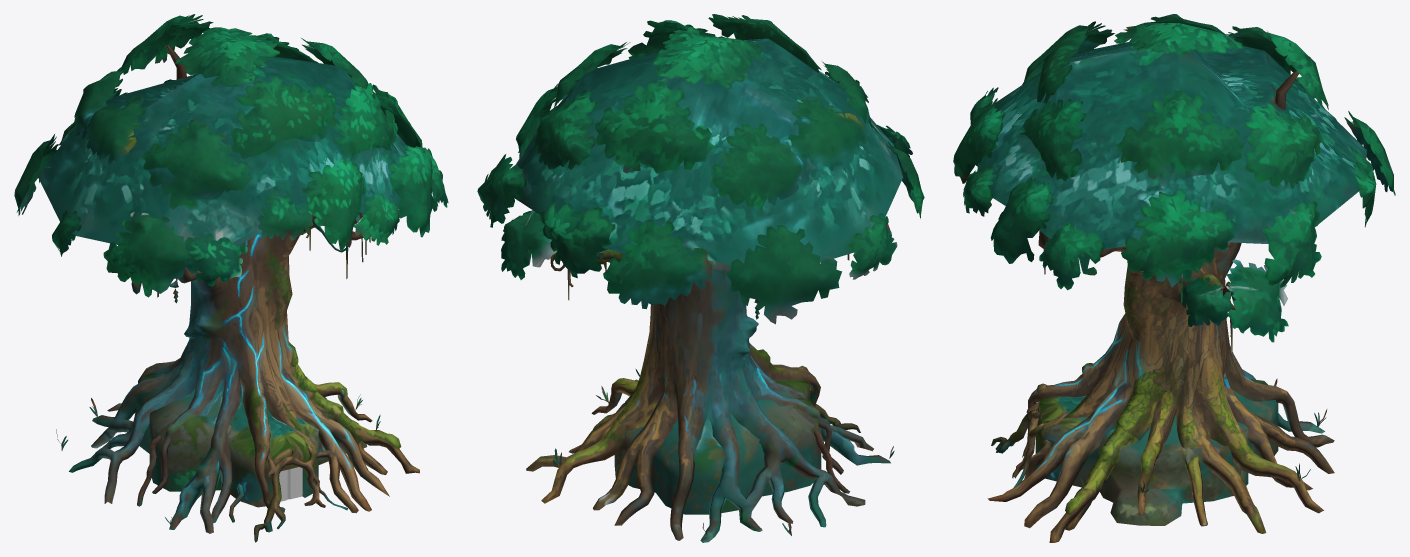
Rendered from Tree_Golem.fbx.
3 renders of one model, left to right at view 1: azimuth 30°, elevation 25°; view 2: azimuth 150°, elevation 25°; view 3: azimuth 270°, elevation 25°, orthographic. The views are drawn at different scales.
Parts seen in each view (by area): view 1: fb300689_a8bb_4872_b2f7_7d57f4a33fc9; view 2: fb300689_a8bb_4872_b2f7_7d57f4a33fc9; view 3: fb300689_a8bb_4872_b2f7_7d57f4a33fc9.
Part boxes in pixels (box(x1,y1,x2,y2)): fb300689_a8bb_4872_b2f7_7d57f4a33fc9: box(14, 14, 448, 542); fb300689_a8bb_4872_b2f7_7d57f4a33fc9: box(477, 14, 924, 542); fb300689_a8bb_4872_b2f7_7d57f4a33fc9: box(953, 14, 1395, 542).
Size of the model in its own units: 1581 by 1846 by 1625.
